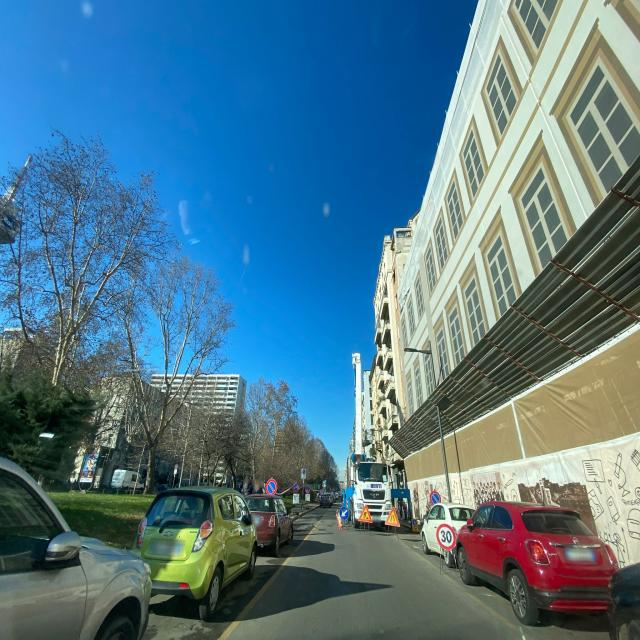forb_stopping: (430, 491, 442, 505)
